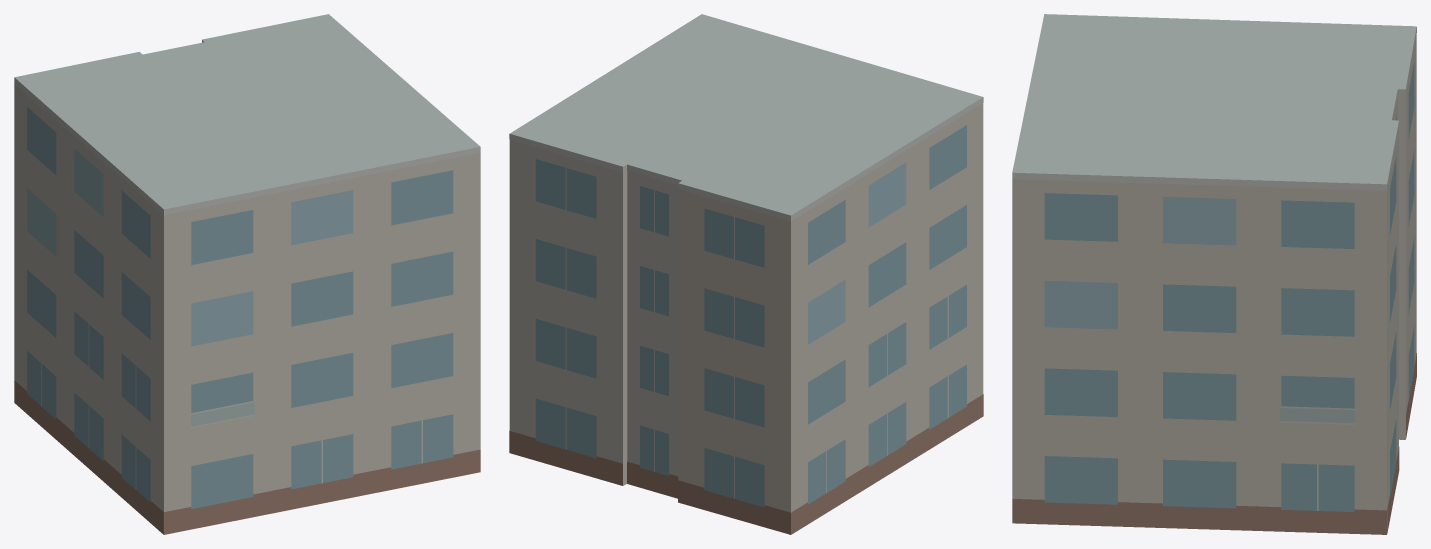
Rendered from survey-upis-32954861.glb.
3 views of the same model, side by side, from view 1: azimuth 30°, elevation 25°; view 2: azimuth 150°, elevation 25°; view 3: azimuth 270°, elevation 25° (orthographic). The views are drawn at different scales.
Parts seen in each view (by area): view 1: survey-upis-32954861.tmp; view 2: survey-upis-32954861.tmp; view 3: survey-upis-32954861.tmp.
Part boxes in pixels (bbox=[...]): survey-upis-32954861.tmp: bbox=[14, 14, 480, 534]; survey-upis-32954861.tmp: bbox=[509, 14, 983, 534]; survey-upis-32954861.tmp: bbox=[1012, 14, 1416, 534].
Size of the model in its own units: 14.07 by 13.5 by 14.13.
